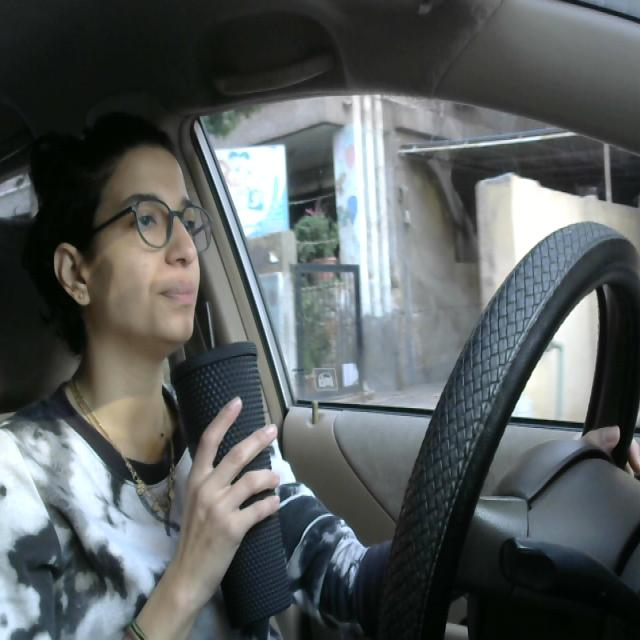drinking: (173, 289, 303, 634)
